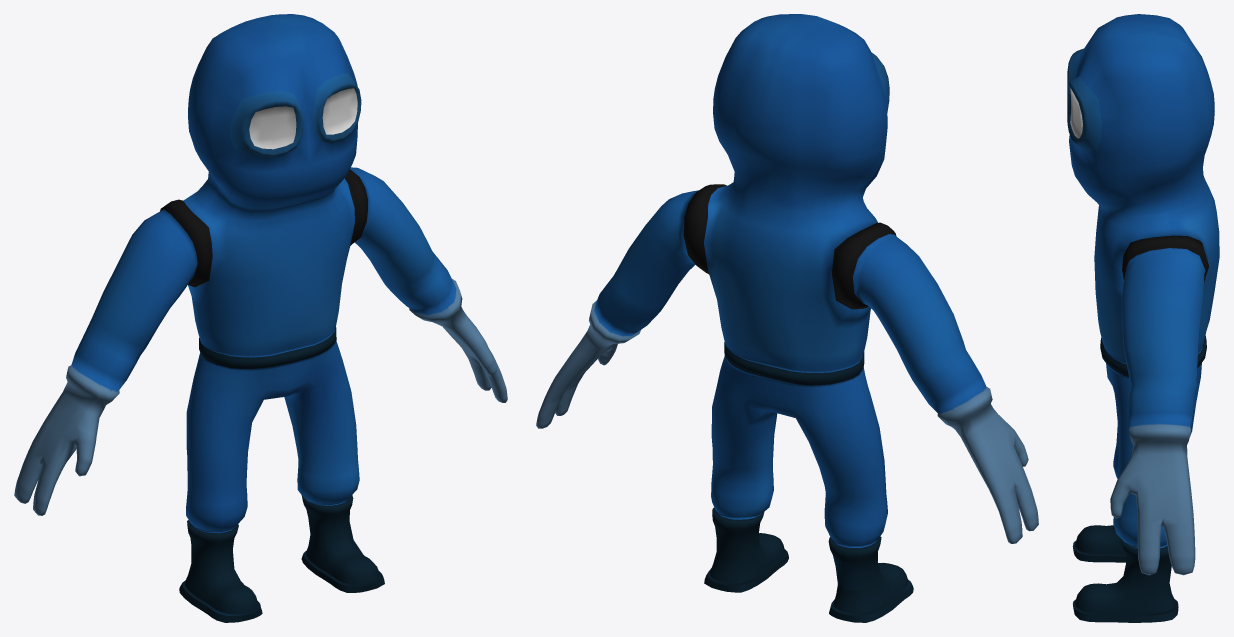
The model's file is Scientist_Blue_Character.FBX.
3 renders of one model, left to right at view 1: azimuth 30°, elevation 25°; view 2: azimuth 150°, elevation 25°; view 3: azimuth 270°, elevation 25°, orthographic. The views are drawn at different scales.
Visible parts, largest first — view 1: Scientist; view 2: Scientist; view 3: Scientist.
Part boxes in pixels (x1=…): Scientist: x1=14, y1=14, x2=507, y2=622; Scientist: x1=536, y1=14, x2=1038, y2=622; Scientist: x1=1067, y1=14, x2=1219, y2=622.
Size of the model in its own units: 53.19 by 60.03 by 14.98.
